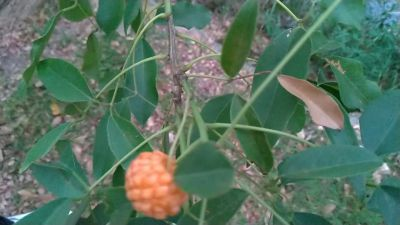eggs: (123, 149, 190, 216)
